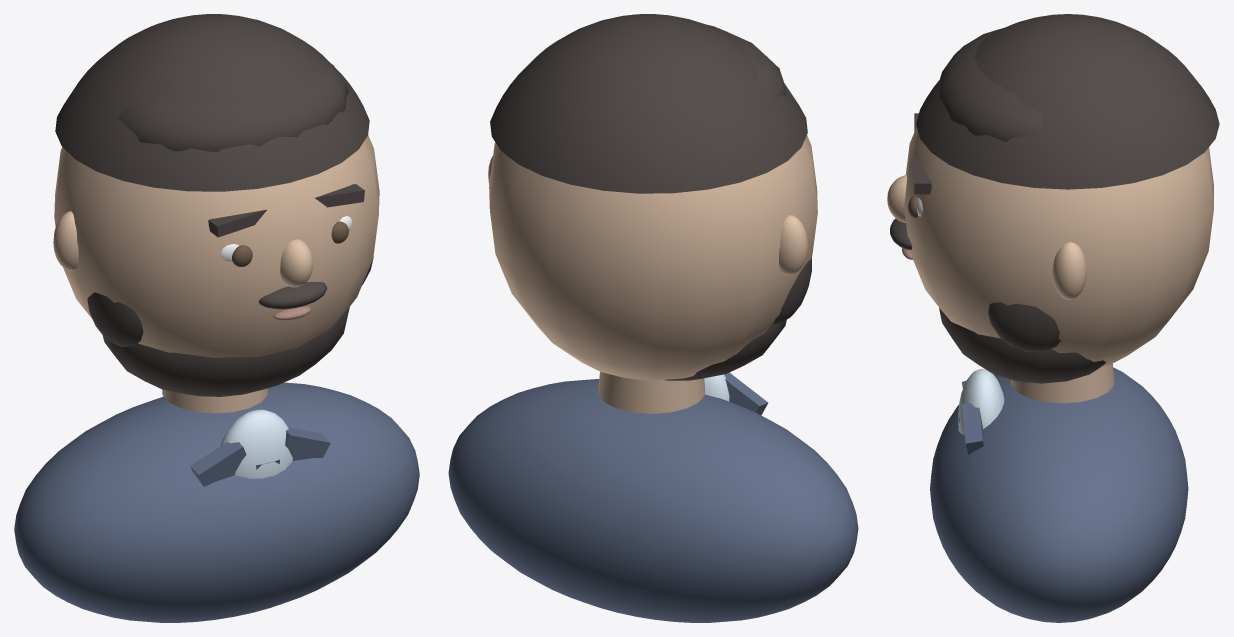
The model's file is hemel.glb.
3 views of the same model, side by side, from view 1: azimuth 30°, elevation 25°; view 2: azimuth 150°, elevation 25°; view 3: azimuth 270°, elevation 25° (orthographic). The views are drawn at different scales.
Visible parts, largest first — view 1: Hemel; view 2: Hemel; view 3: Hemel.
Part boxes in pixels (bbox=[...]): Hemel: bbox=[14, 14, 419, 622]; Hemel: bbox=[448, 14, 858, 622]; Hemel: bbox=[887, 14, 1219, 622].
Size of the model in its own units: 2.48 by 3.53 by 1.9.
